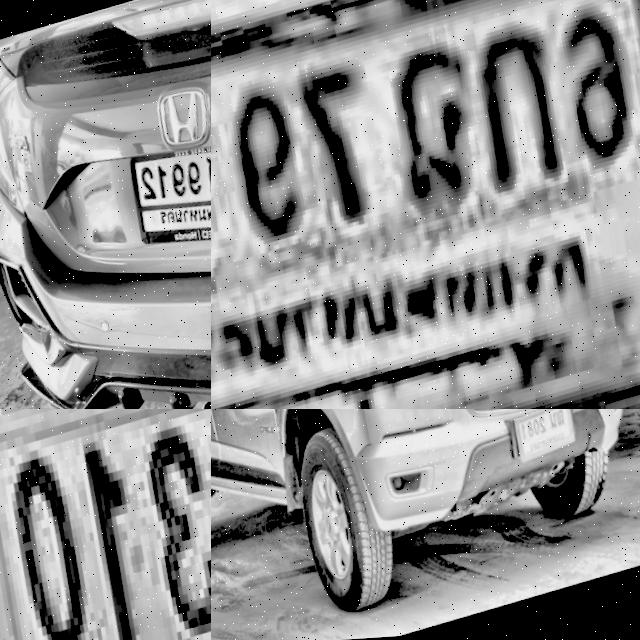license-plate: (211, 0, 640, 409), (0, 409, 211, 640), (118, 116, 211, 277), (511, 409, 586, 469)
